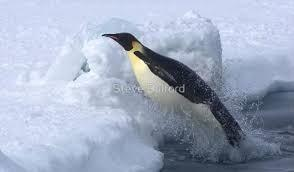emporer: (95, 22, 257, 156)
